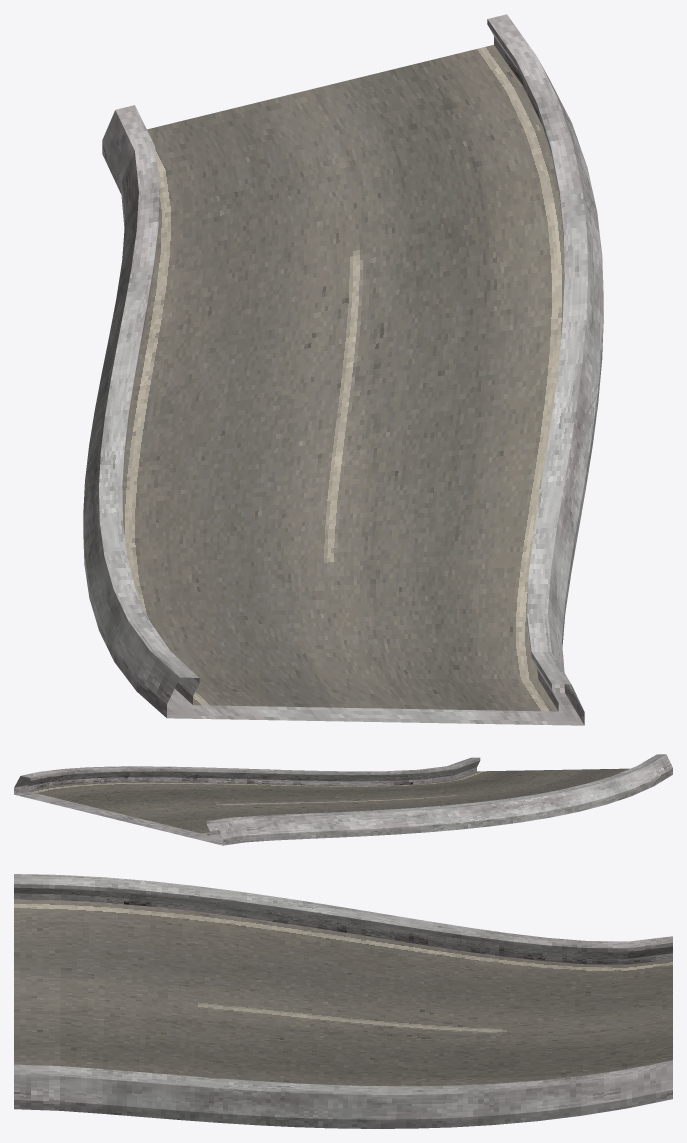
The model's file is road-Chicane-HalfBankedRight-BiSlopeUp-Up2-Right1-Size2.glb.
3 views of the same model, one above another, from view 1: azimuth 30°, elevation 25°; view 2: azimuth 150°, elevation 25°; view 3: azimuth 270°, elevation 25° (orthographic). The views are drawn at different scales.
Visible parts, largest first — view 1: road-Chicane-HalfBankedRight-BiSlopeUp-Up2-Right1-Size2; view 2: road-Chicane-HalfBankedRight-BiSlopeUp-Up2-Right1-Size2; view 3: road-Chicane-HalfBankedRight-BiSlopeUp-Up2-Right1-Size2.
Part boxes in pixels (box(x1,y1,x2,y2)): road-Chicane-HalfBankedRight-BiSlopeUp-Up2-Right1-Size2: box(83, 14, 603, 725); road-Chicane-HalfBankedRight-BiSlopeUp-Up2-Right1-Size2: box(14, 754, 672, 845); road-Chicane-HalfBankedRight-BiSlopeUp-Up2-Right1-Size2: box(14, 874, 672, 1128).
Size of the model in its own units: 2 by 0.5937 by 2.
Materials: 2 (2 with a texture image).
